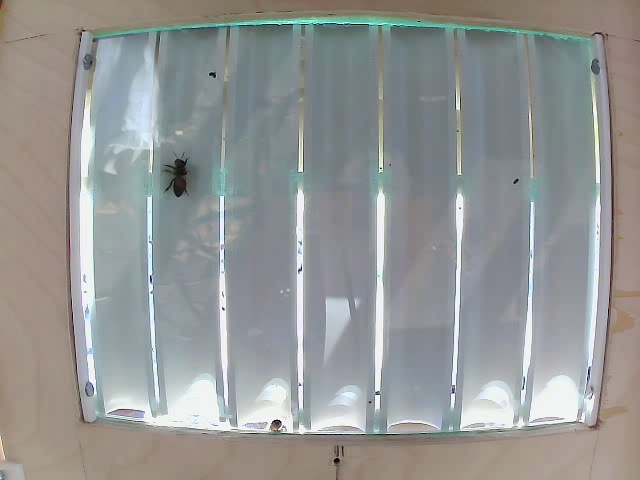bee: (167, 154, 214, 207)
